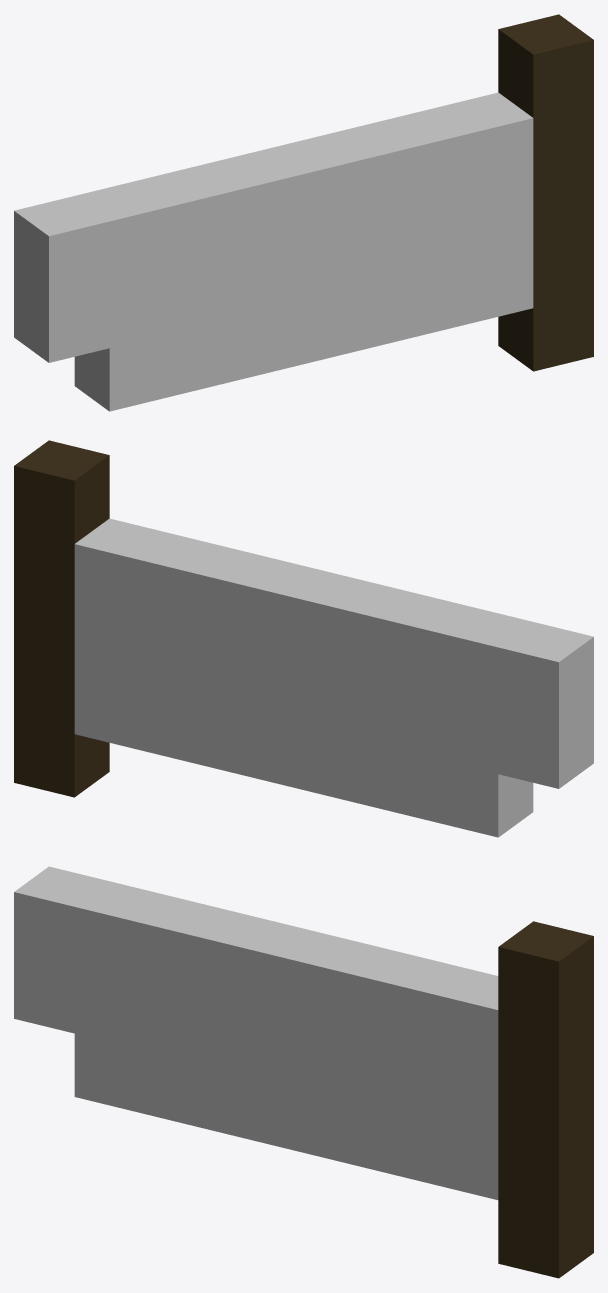
File: BKSword.dae
3 views of the same model, one above another, from view 1: azimuth 30°, elevation 25°; view 2: azimuth 150°, elevation 25°; view 3: azimuth 330°, elevation 25° (orthographic).
Parts seen in each view (by area): view 1: BKSword; view 2: BKSword; view 3: BKSword.
Boxes of the visible parts, <box> form: BKSword: <box>14,14,593,411</box>; BKSword: <box>14,440,593,837</box>; BKSword: <box>14,866,593,1278</box>.
Size of the model in its own units: 0.9 by 0.1 by 0.5.
Materials: 1 (1 with a texture image).
